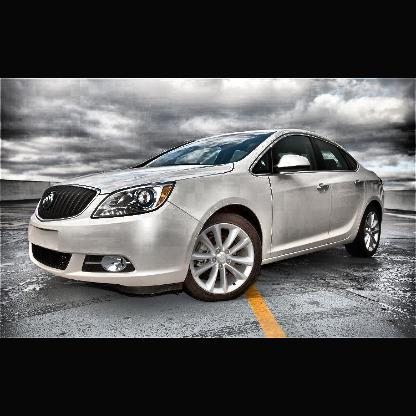Buick Verano Sedan 2012: (28, 130, 386, 301)
